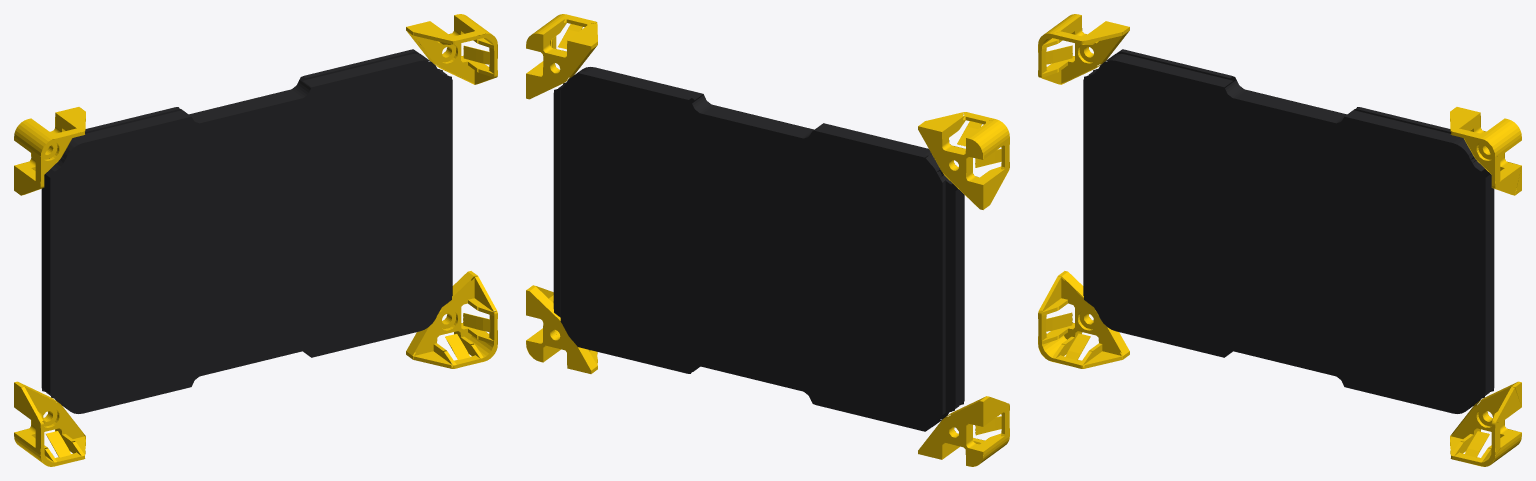
The model's file is hamilton_prep_resourceholder.glb.
The picture shows the model from 3 angles, left to right: view 1: azimuth 30°, elevation 25°; view 2: azimuth 150°, elevation 25°; view 3: azimuth 330°, elevation 25°; orthographic projection.
Parts seen in each view (by area): view 1: insert_pedestal, corner_clips; view 2: insert_pedestal, corner_clips; view 3: insert_pedestal, corner_clips.
Boxes of the visible parts, <box> form: insert_pedestal: <box>41,49,452,413</box>; corner_clips: <box>14,14,497,466</box>; insert_pedestal: <box>553,67,964,431</box>; corner_clips: <box>526,14,1009,466</box>; insert_pedestal: <box>1083,49,1494,413</box>; corner_clips: <box>1038,14,1521,466</box>.
Size of the model in its own units: 0.1335 by 0.0915 by 0.015.
